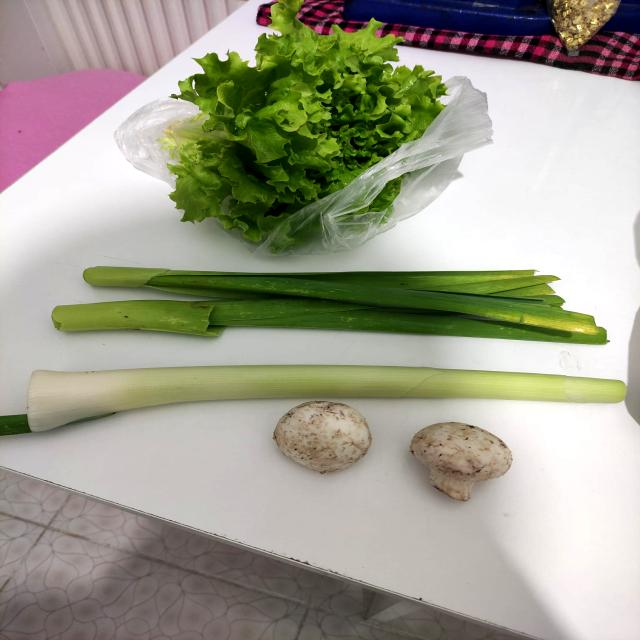mushroom: (404, 416, 531, 507), (271, 397, 380, 479)
parsley: (158, 13, 461, 238)
